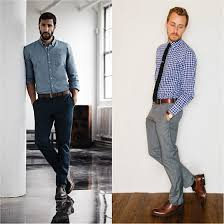F_belt: (146, 94, 188, 110), (33, 88, 77, 102)
F_dress pants: (28, 99, 80, 188)
F_tie: (153, 38, 171, 106)
